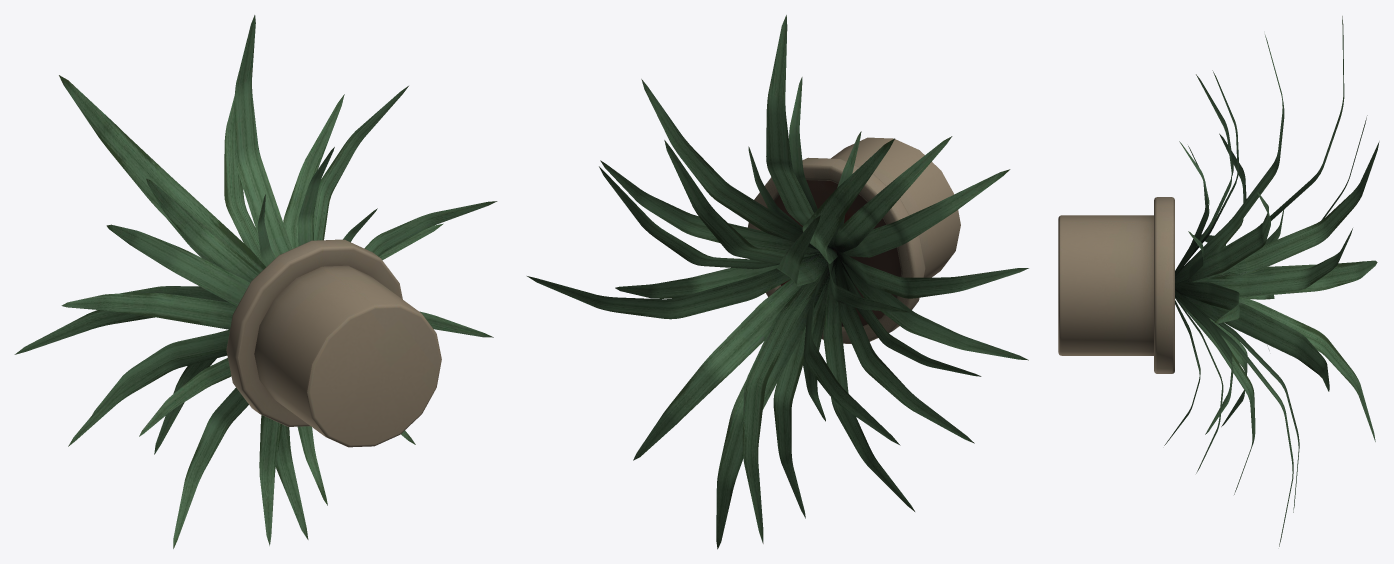
The model's file is Plante_2.fbx.
The picture shows the model from 3 angles, left to right: view 1: azimuth 30°, elevation 25°; view 2: azimuth 150°, elevation 25°; view 3: azimuth 270°, elevation 25°; orthographic projection. The views are drawn at different scales.
Visible parts, largest first — view 1: Cylinder.011; view 2: Cylinder.011; view 3: Cylinder.011.
Part boxes in pixels (x1=…): Cylinder.011: x1=14, y1=15, x2=497, y2=548; Cylinder.011: x1=527, y1=15, x2=1028, y2=549; Cylinder.011: x1=1058, y1=16, x2=1379, y2=546.
Bounding box in the file's own units: 27.44 × 39.39 × 46.37.
